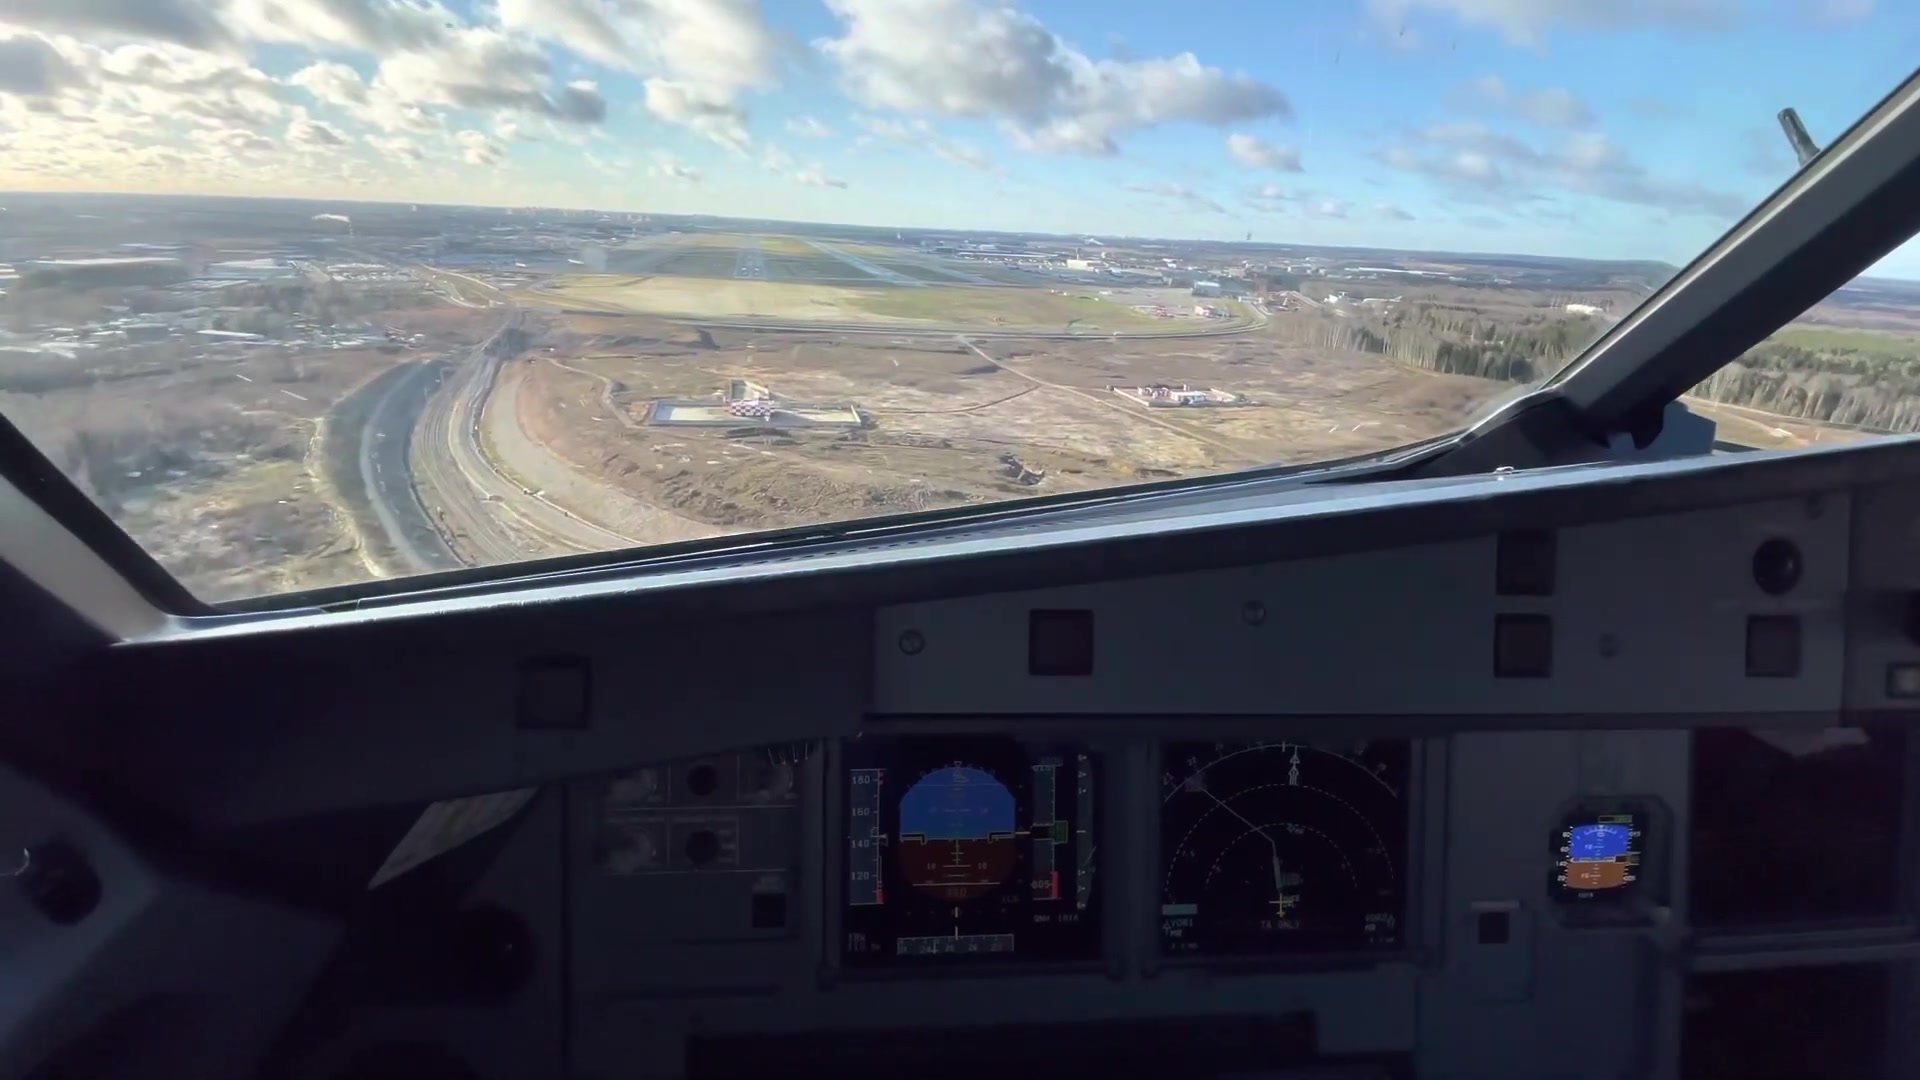runway: (729, 231, 770, 281)
